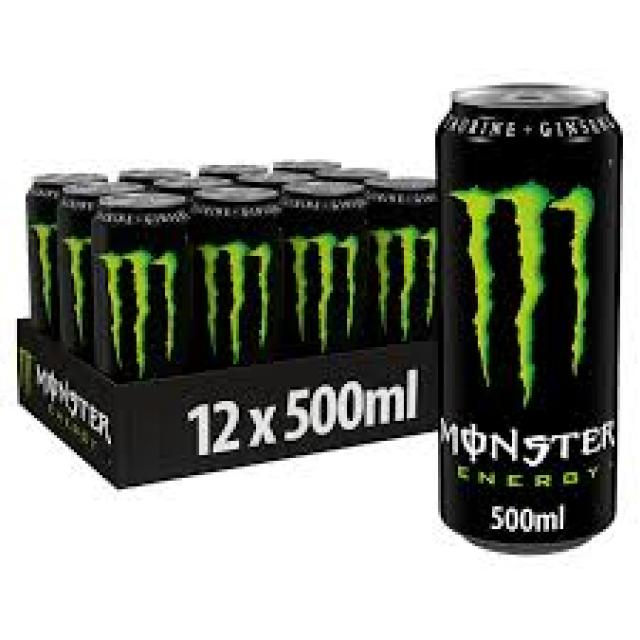Cans: (432, 80, 623, 560)
